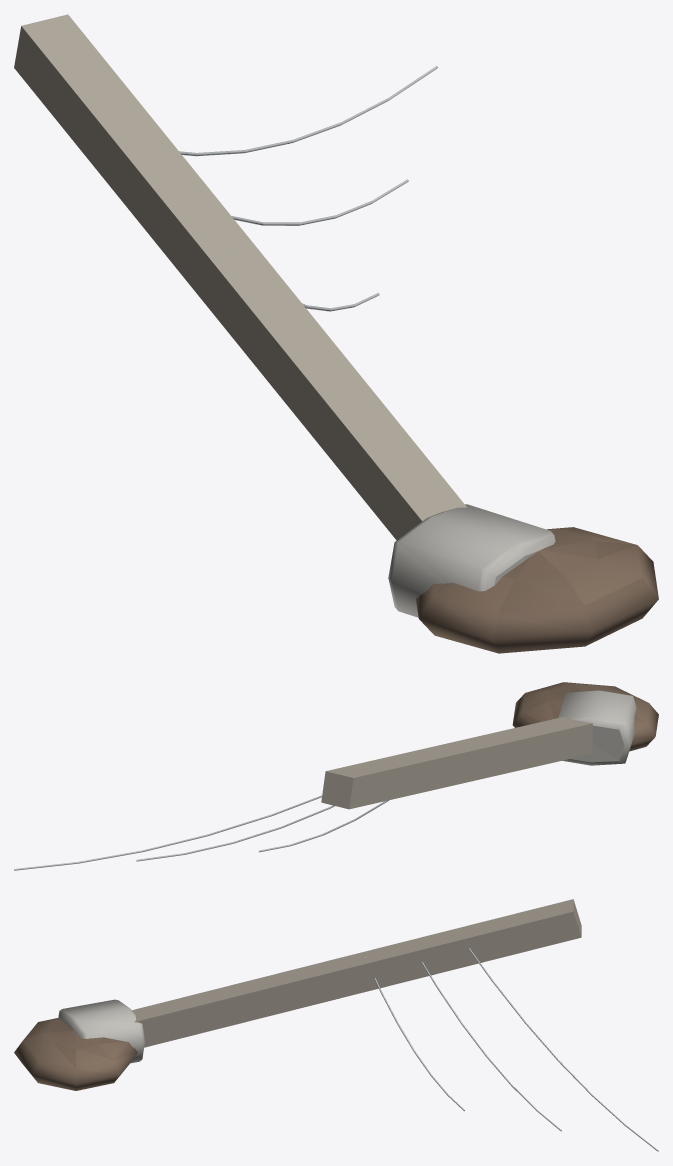
Rendered from storm_post_uprooted_a.glb.
3 renders of one model, top to bottom at view 1: azimuth 30°, elevation 25°; view 2: azimuth 150°, elevation 25°; view 3: azimuth 270°, elevation 25°, orthographic. The views are drawn at different scales.
Visible parts, largest first — view 1: body; view 2: body; view 3: body.
Part boxes in pixels (left/top/right/bottom): body: left=14, top=14, right=658, bottom=653; body: left=14, top=682, right=658, bottom=870; body: left=14, top=899, right=658, bottom=1151.
Size of the model in its own units: 1.4 by 0.7078 by 2.6.
